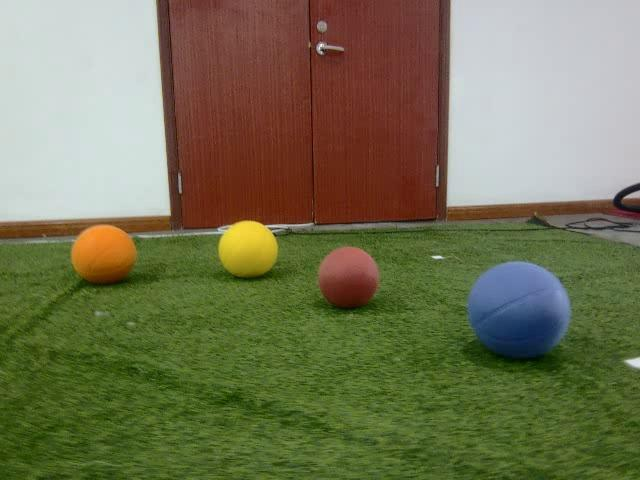blue_ball: (466, 258, 572, 361)
orange_ball: (70, 225, 136, 285)
red_ball: (320, 246, 380, 310)
yellow_ball: (217, 220, 280, 280)
